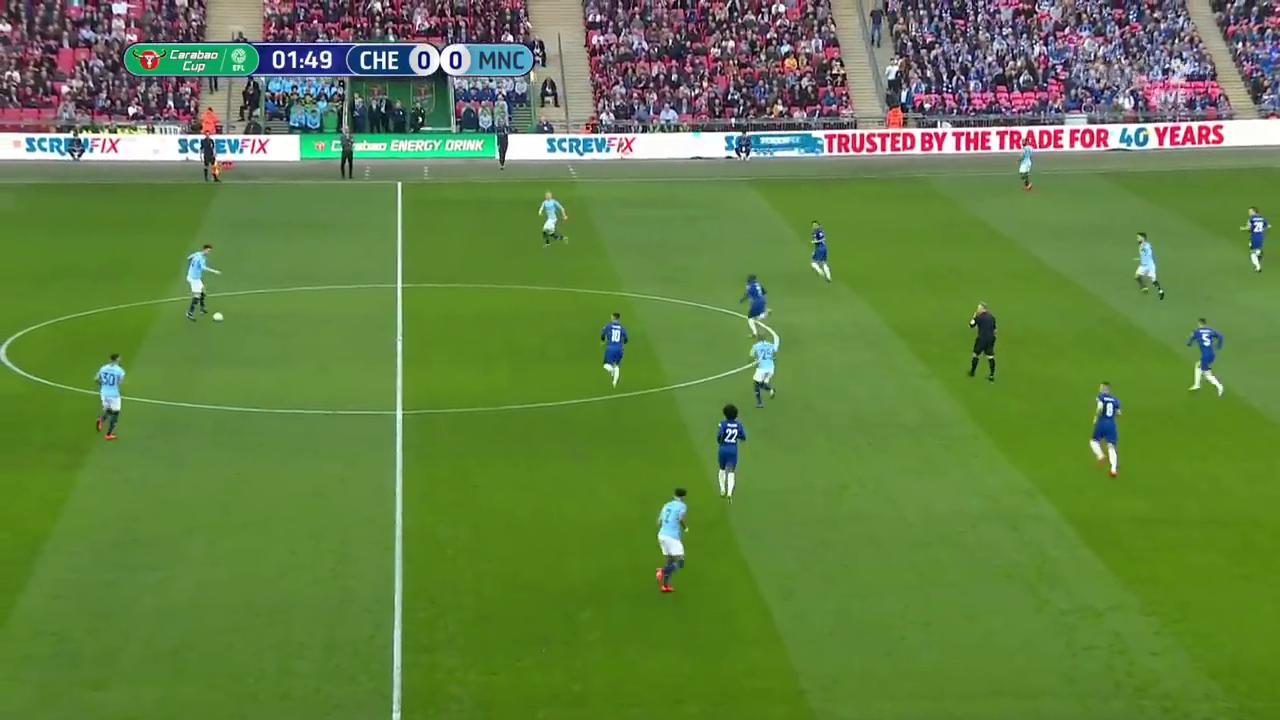ball: (212, 310, 223, 324)
player: (652, 484, 694, 599), (1087, 381, 1125, 478), (713, 403, 749, 505), (1185, 315, 1230, 396), (89, 348, 125, 445), (963, 298, 1002, 386), (183, 236, 220, 323), (745, 335, 786, 408), (1133, 229, 1168, 303), (600, 309, 631, 386), (740, 274, 777, 337), (806, 218, 837, 290), (538, 186, 571, 250), (1239, 206, 1269, 274), (1017, 138, 1035, 190)
